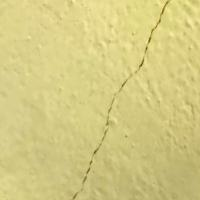crack: (68, 1, 176, 199)
